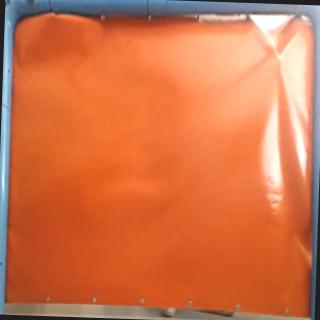Hit-hRxx: (269, 52, 287, 66)
